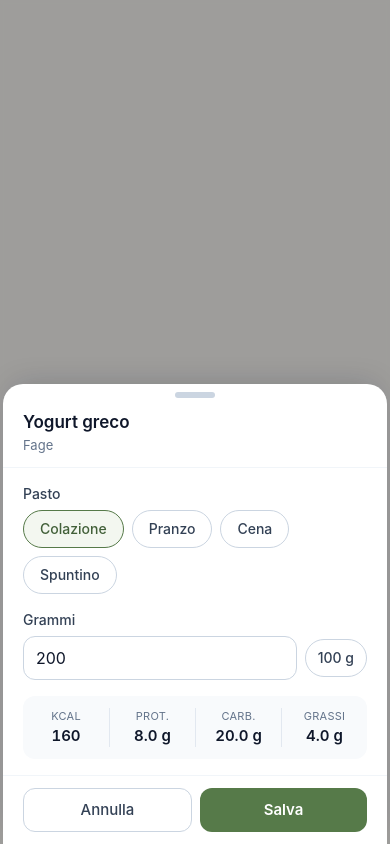
Test: EditEntrySheet › shows an error and keeps the sheet open when the patch fails
The width and height of the screenshot is (390, 844).
Click the button "Salva".
click(284, 810)  # box top-left (200, 788), bottom-right (367, 832)
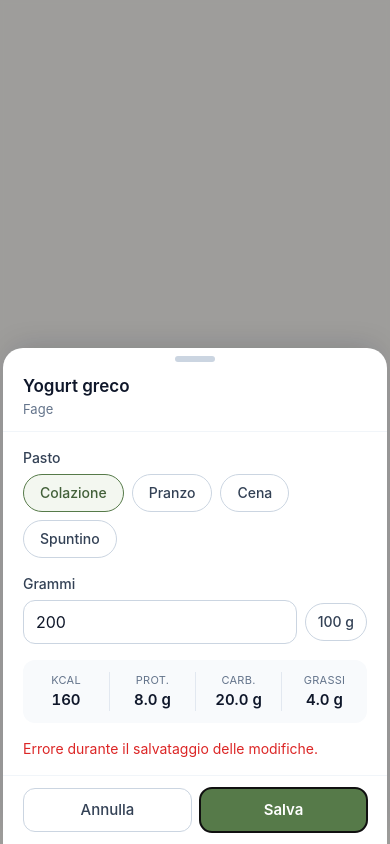
Now the text "Errore durante il salvataggio delle modifiche." is shown, box top-left (23, 739), bottom-right (367, 759)
